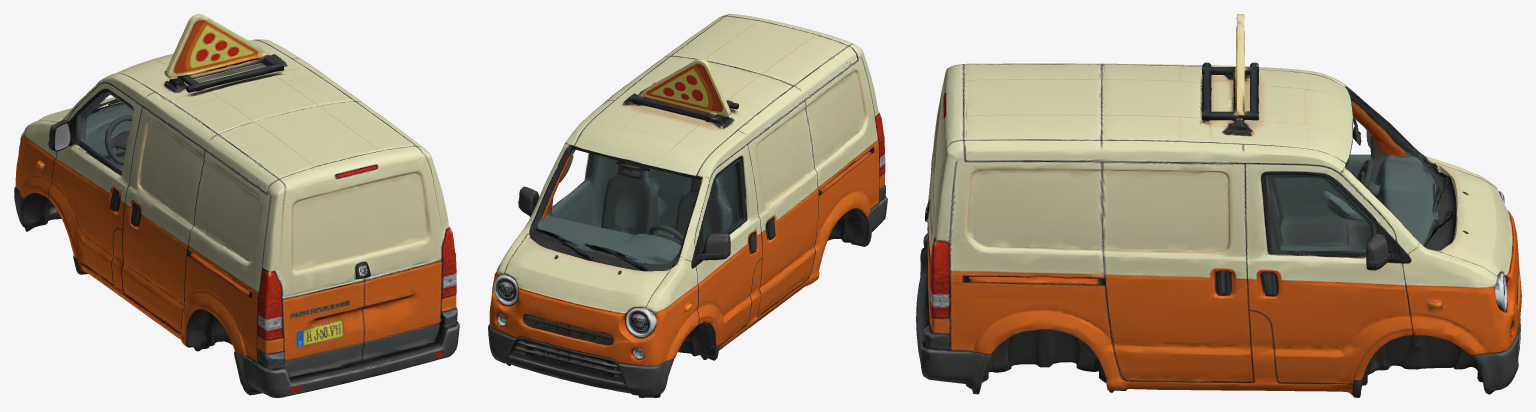
Rendered from pizzavan.glb.
3 renders of one model, left to right at view 1: azimuth 30°, elevation 25°; view 2: azimuth 150°, elevation 25°; view 3: azimuth 270°, elevation 25°, orthographic. The views are drawn at different scales.
Visible parts, largest first — view 1: tripo_node_56e0ac5d-7b83-4010-8627-c0f691ec900d; view 2: tripo_node_56e0ac5d-7b83-4010-8627-c0f691ec900d; view 3: tripo_node_56e0ac5d-7b83-4010-8627-c0f691ec900d.
Boxes of the visible parts, left/top/right/bottom form: tripo_node_56e0ac5d-7b83-4010-8627-c0f691ec900d: left=14, top=14, right=459, bottom=397; tripo_node_56e0ac5d-7b83-4010-8627-c0f691ec900d: left=488, top=14, right=887, bottom=397; tripo_node_56e0ac5d-7b83-4010-8627-c0f691ec900d: left=916, top=14, right=1521, bottom=397.
Bounding box in the file's own units: 1.74 × 2 × 3.43.
Materials: 1 (1 with a texture image).
